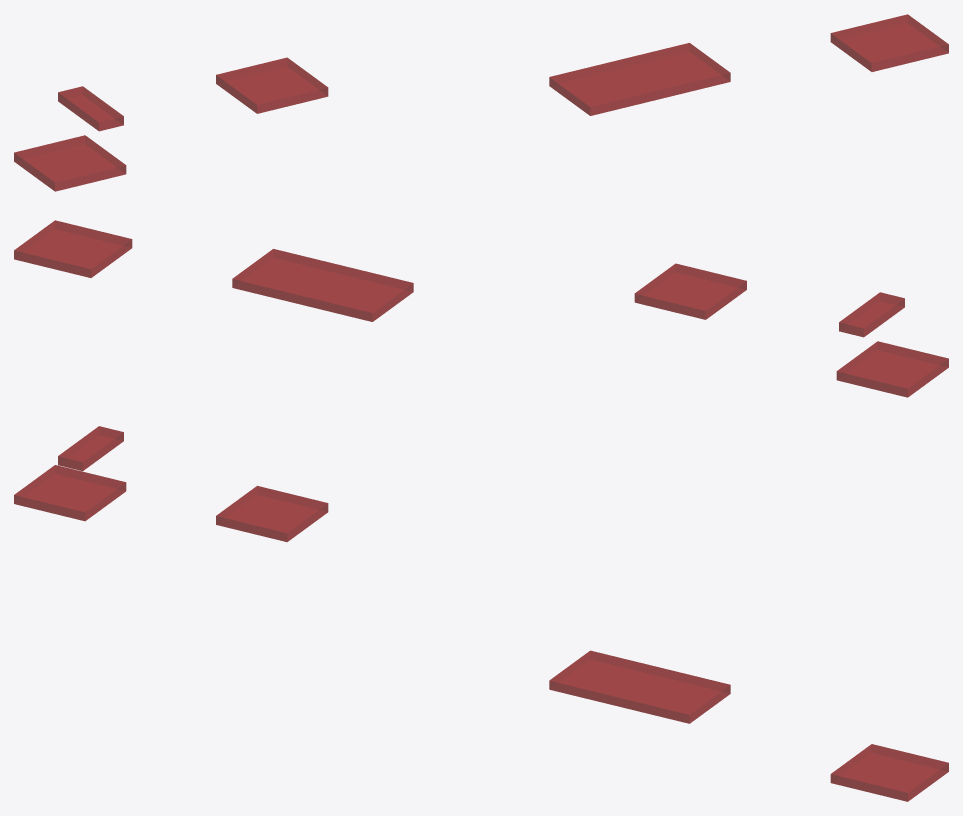
The model's file is _death.obj.
3 views of the same model, one above another, from view 1: azimuth 30°, elevation 25°; view 2: azimuth 150°, elevation 25°; view 3: azimuth 330°, elevation 25° (orthographic).
Bounding box in the file's own units: 480 × 71.05 × 38.3.
